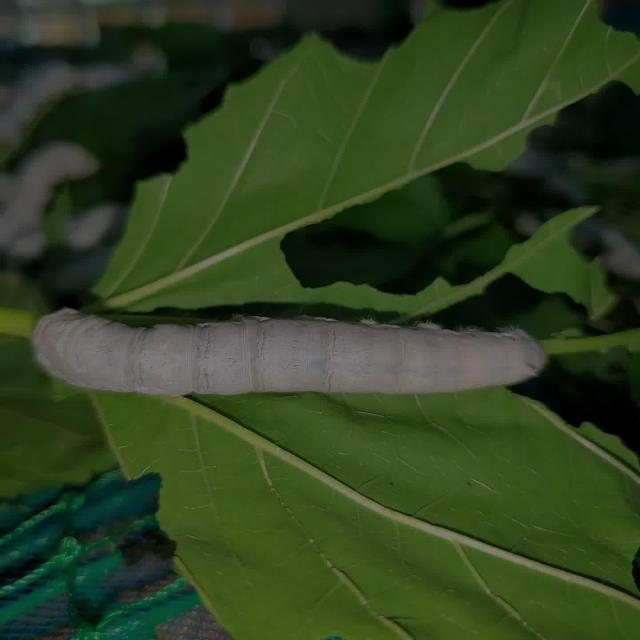Healthy: (28, 277, 551, 409)
